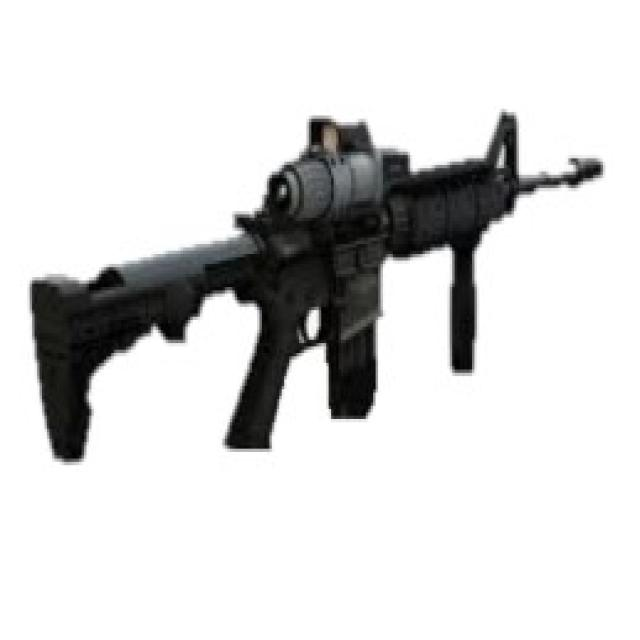rifle: (13, 92, 606, 478)
